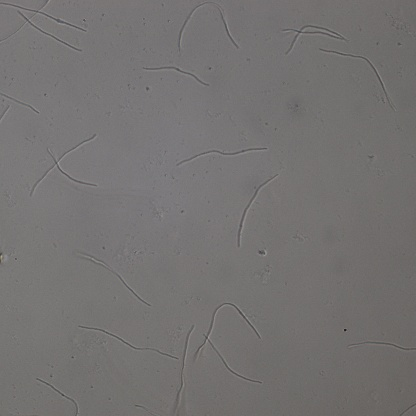Sensitive: (195, 300, 263, 385), (321, 48, 396, 111), (1, 1, 86, 53), (75, 250, 152, 306), (32, 136, 96, 192), (78, 324, 178, 357), (177, 2, 239, 52), (238, 173, 278, 246), (281, 23, 347, 56), (174, 145, 268, 168), (36, 377, 79, 416), (177, 324, 194, 406), (144, 65, 208, 86), (346, 339, 416, 353), (1, 91, 38, 114)
